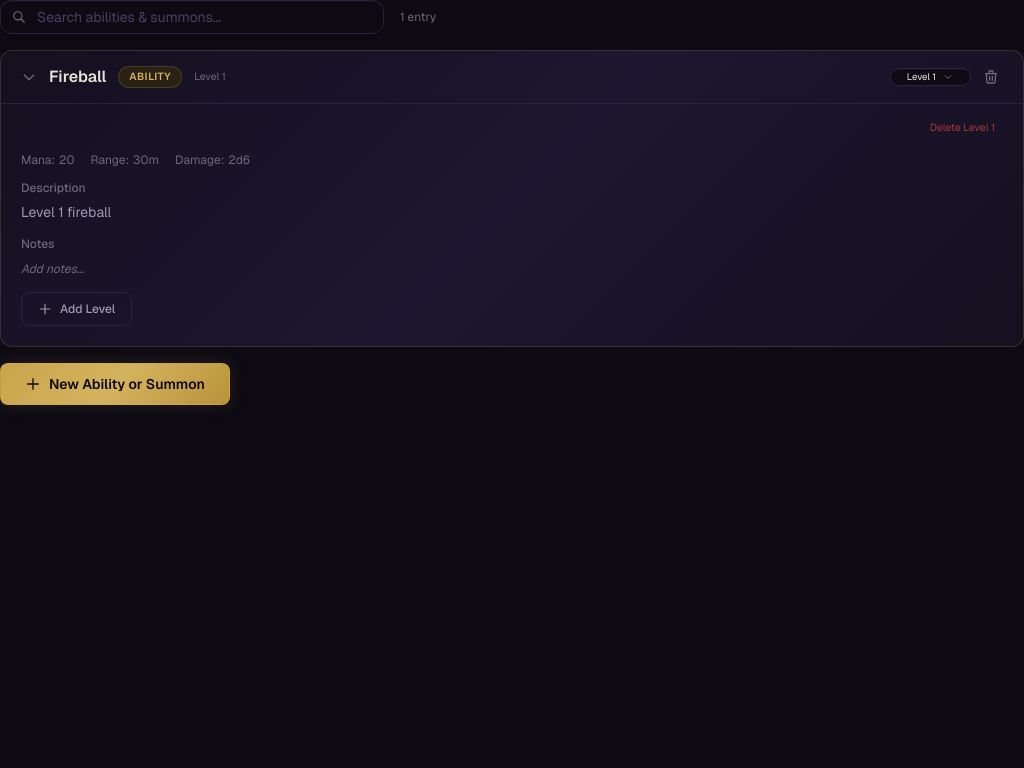
Scenario: AbilitiesTab › shows Deleting... on level delete button while processing
Click the button "Delete Level 1" at (962, 128), box [922, 116, 1003, 140]
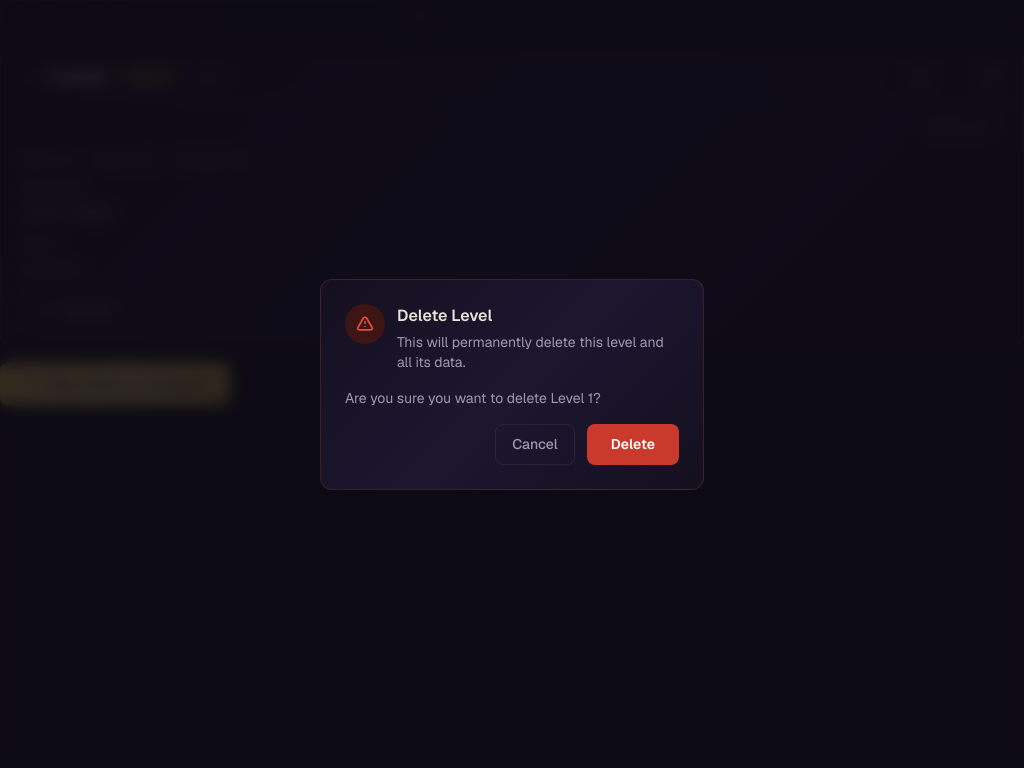
Click the button "Delete" at (633, 444), box [587, 424, 679, 464]
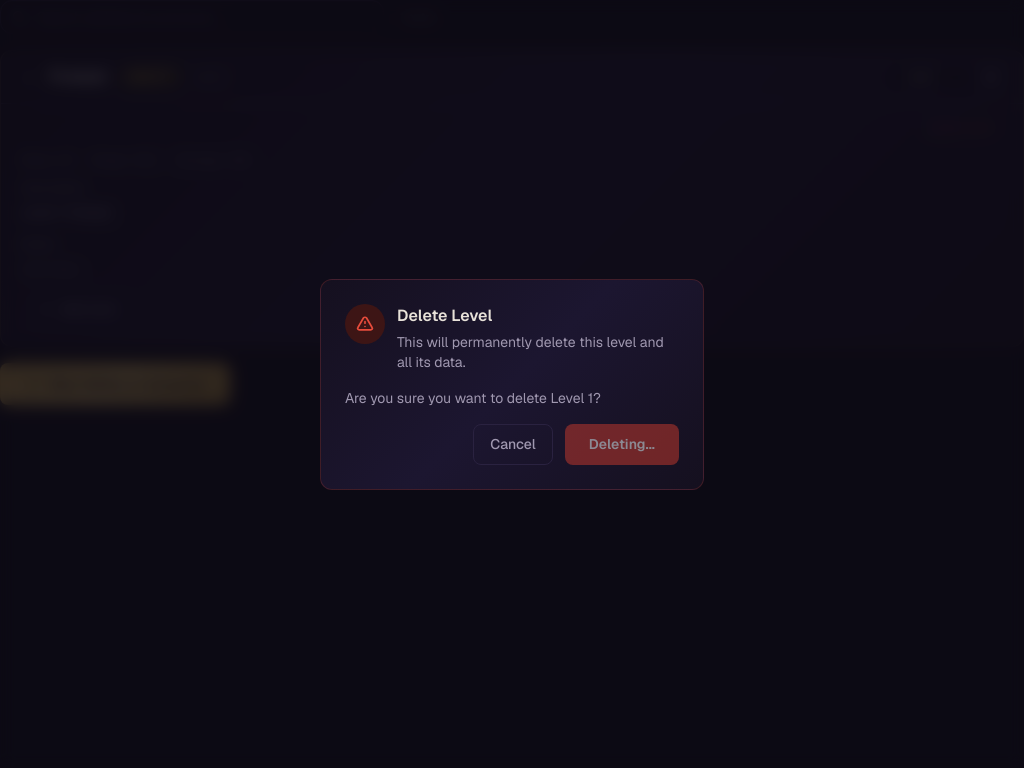
Check: the button "Deleting..." is shown, box [565, 424, 679, 464]
